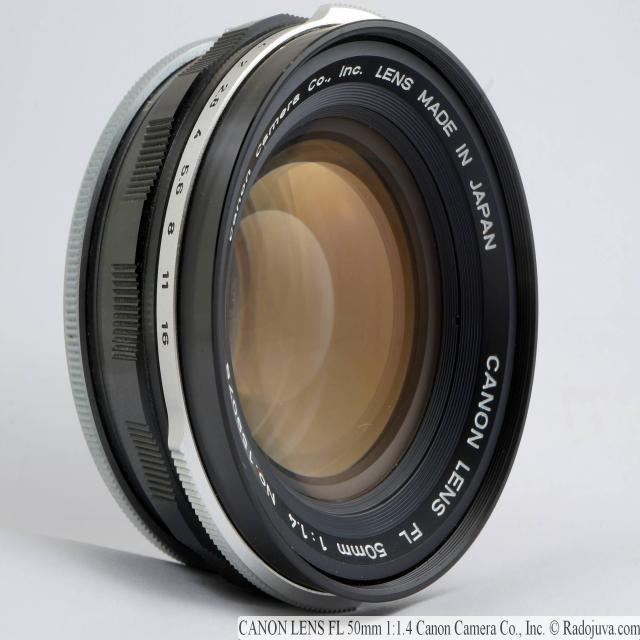hidden camera: (217, 46, 544, 617)
